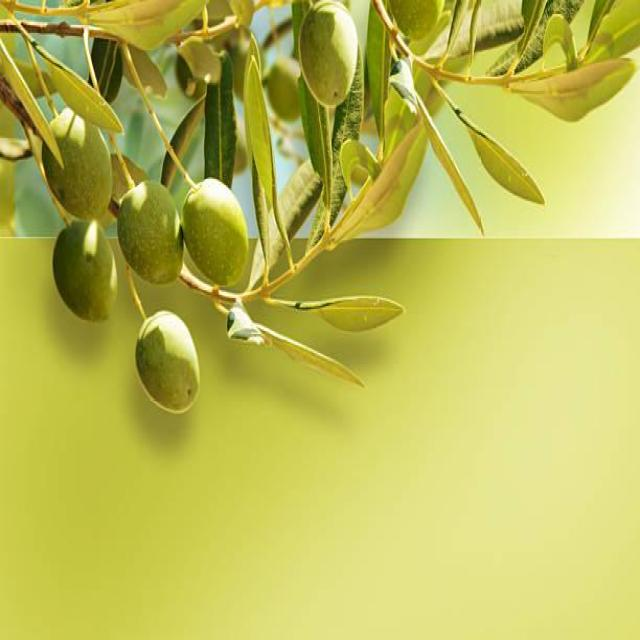Healthy: (42, 108, 112, 218), (300, 0, 362, 110), (185, 179, 248, 285), (118, 180, 182, 284), (136, 311, 200, 413), (53, 221, 116, 320)
